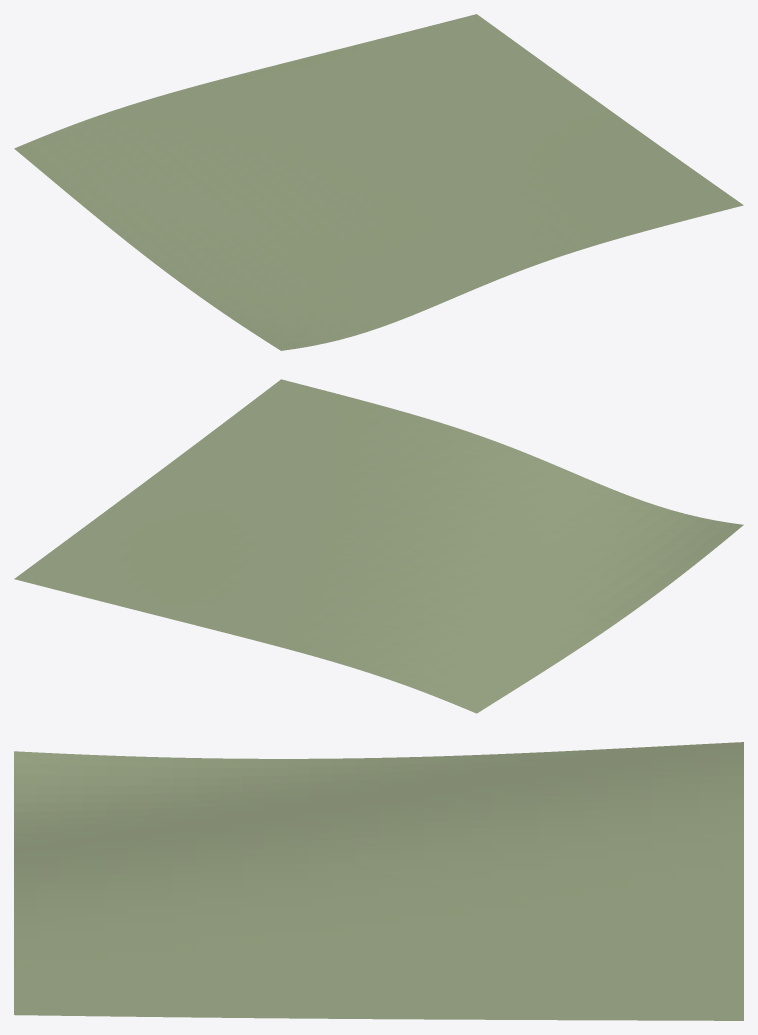
The model's file is desert-12-17.glb.
The picture shows the model from 3 angles, top to bottom: view 1: azimuth 30°, elevation 25°; view 2: azimuth 150°, elevation 25°; view 3: azimuth 270°, elevation 25°; orthographic projection. The views are drawn at different scales.
Parts seen in each view (by area): view 1: desert-12-17; view 2: desert-12-17; view 3: desert-12-17.
Part boxes in pixels (box(x1,y1,x2,y2)): desert-12-17: box(14, 14, 743, 350); desert-12-17: box(14, 379, 743, 713); desert-12-17: box(14, 742, 743, 1020).
Bounding box in the file's own units: 512 × 40.45 × 512.
